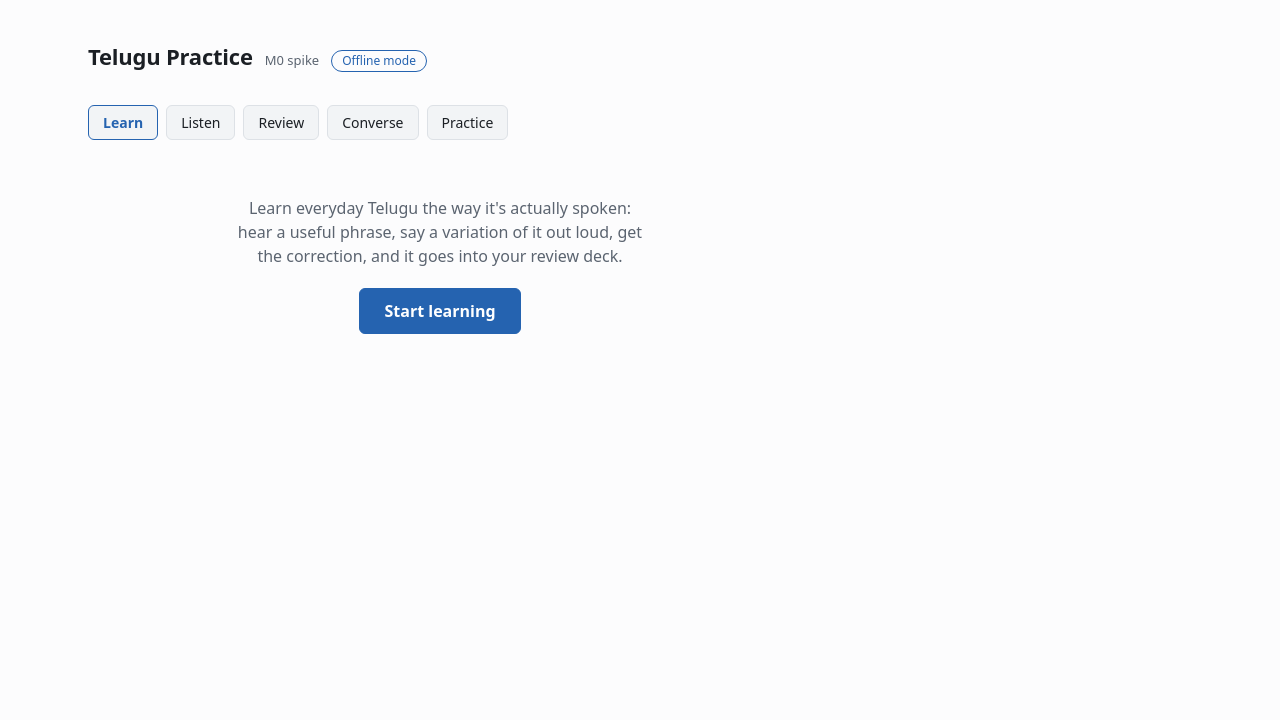
Scenario: App › toggles the debug panel with metric percentiles labeled in ms
Step 1. Click the button "Practice" → [467, 122], box [426,105,508,140]
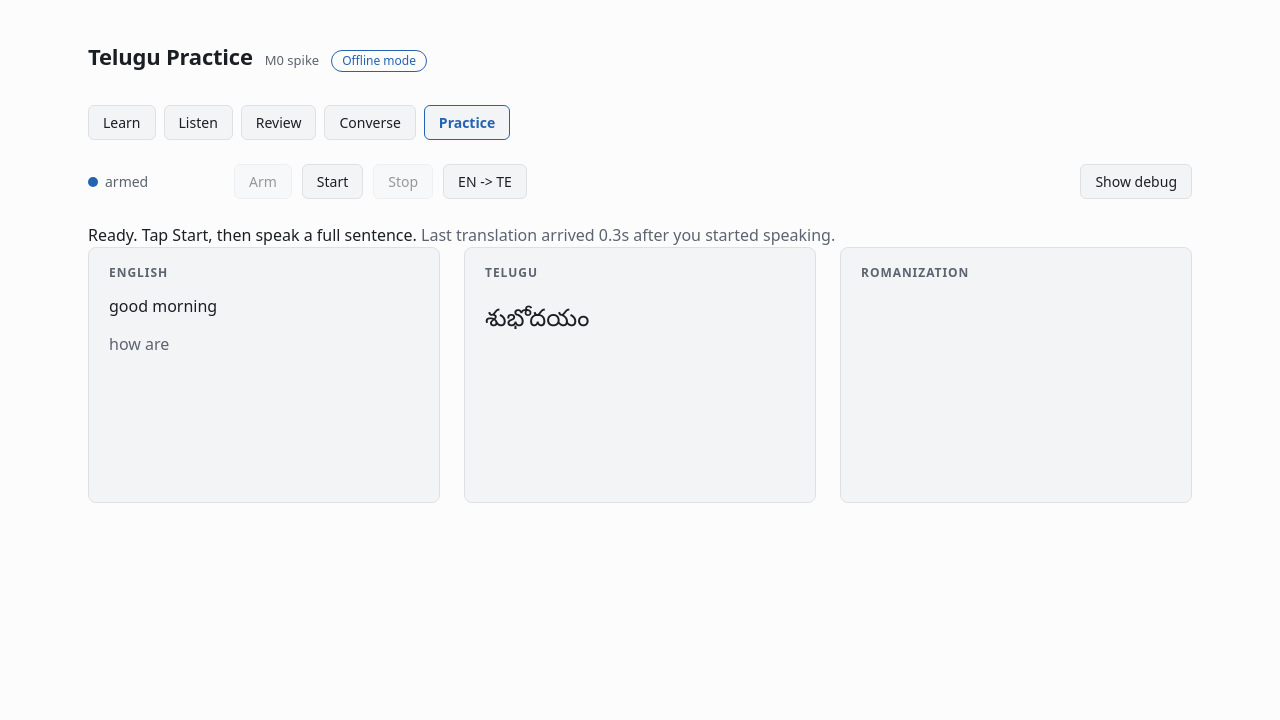
Expected: the text "t_first_audio" is not shown
Now the button "Show debug" is shown
Step 2. Click the button "Show debug" → [1136, 182], box [1080,164,1192,199]
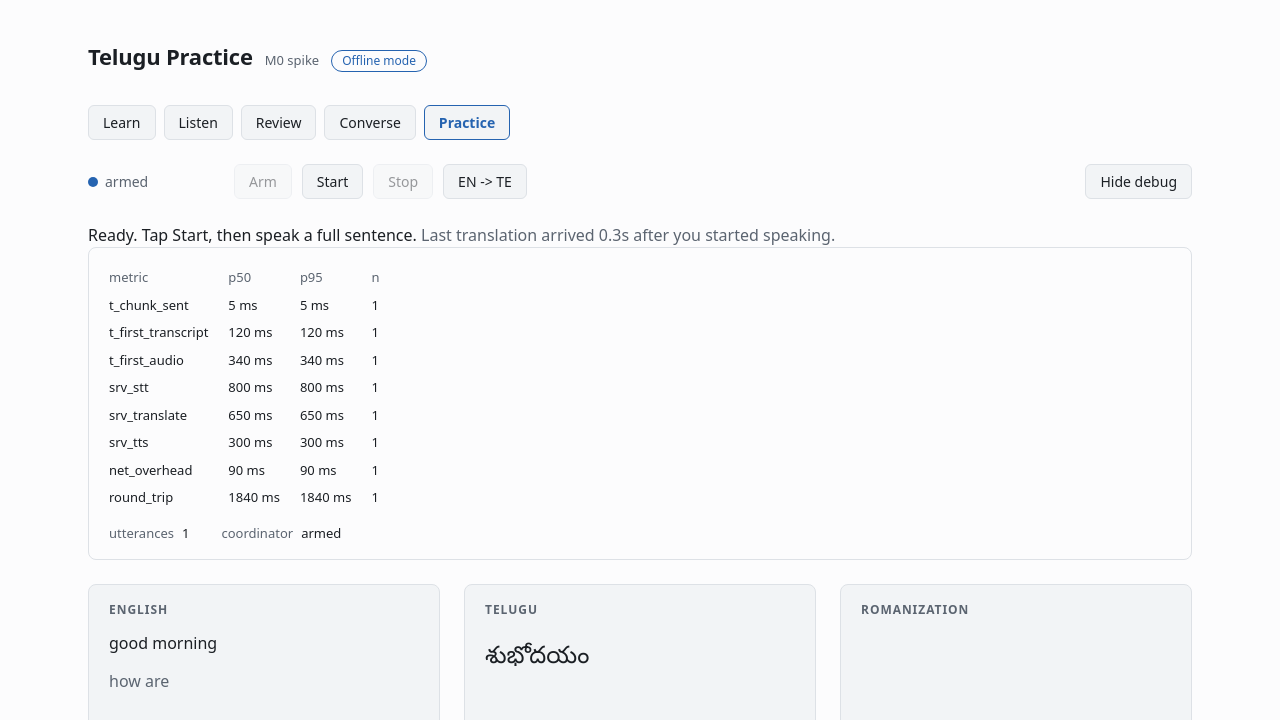
Now the text "t_chunk_sent" is shown, box [109,292,228,319]
Now the text "t_first_transcript" is shown, box [109,319,228,346]
Now the text "t_first_audio" is shown, box [109,346,228,374]
